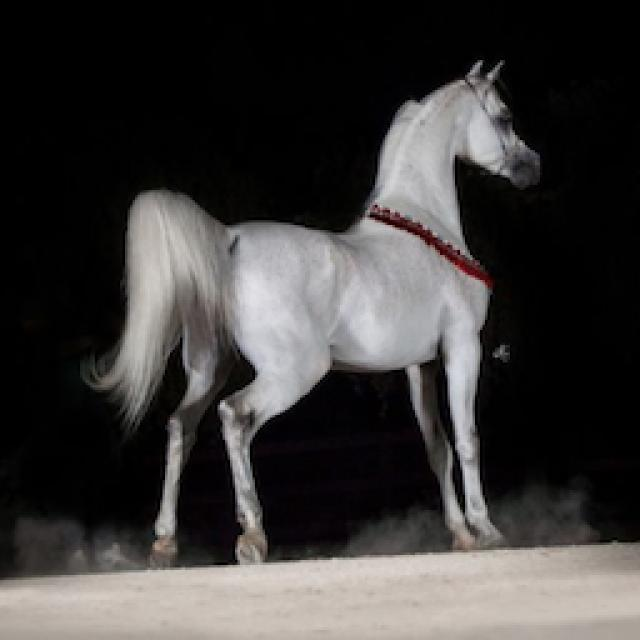Horse: (75, 52, 550, 568)
